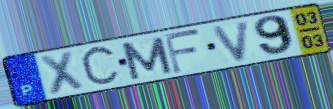9: (253, 14, 297, 58)
C: (79, 43, 123, 90)
F: (162, 28, 204, 76)
M: (118, 35, 175, 82)
V: (210, 18, 253, 64)
X: (37, 49, 87, 97)
